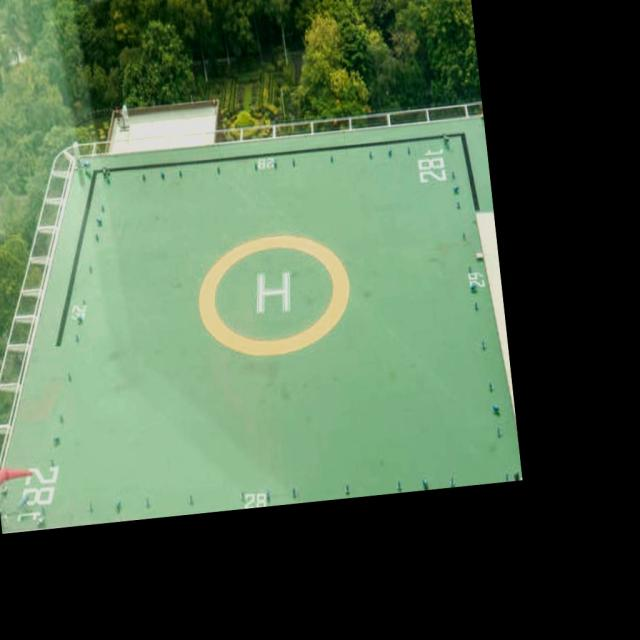helipad: (192, 230, 355, 358)
